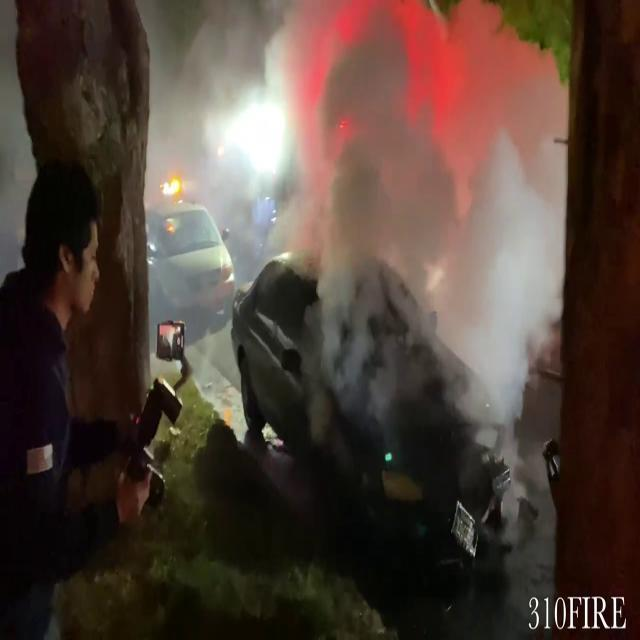Smoke: (164, 0, 574, 430)
